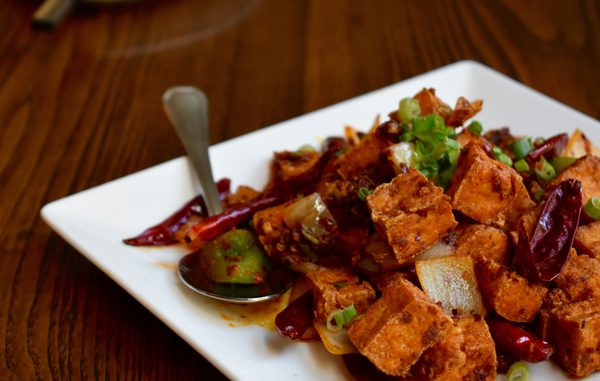salad: (161, 85, 221, 216)
